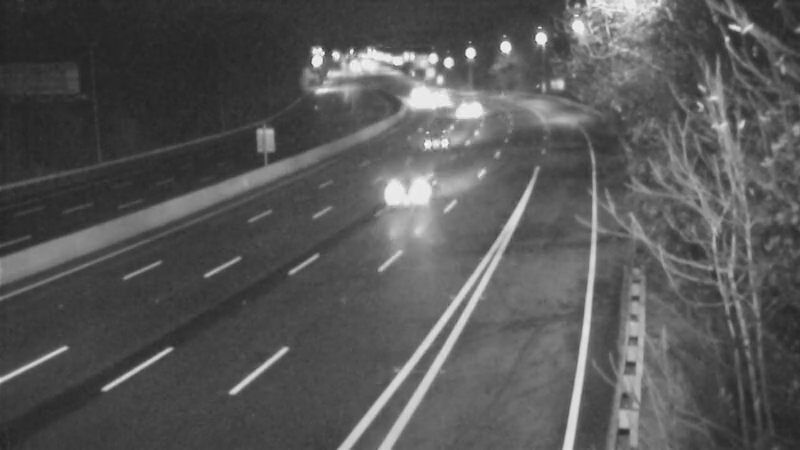vehicle: (376, 145, 456, 225), (394, 76, 444, 126), (445, 84, 495, 134), (415, 122, 465, 172)
